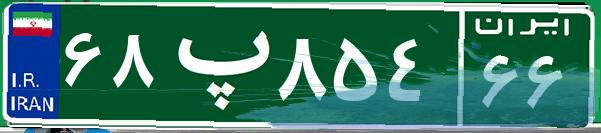4: (385, 28, 445, 110)
5: (330, 28, 385, 110)
6: (57, 26, 110, 107), (475, 38, 525, 113), (525, 38, 570, 115)
8: (273, 28, 330, 110), (110, 28, 158, 105)
پ: (158, 15, 273, 115)
